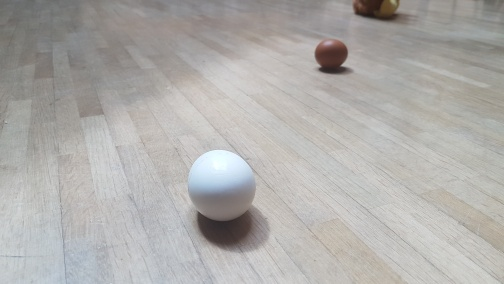egg: (187, 149, 256, 221), (314, 38, 349, 71)
